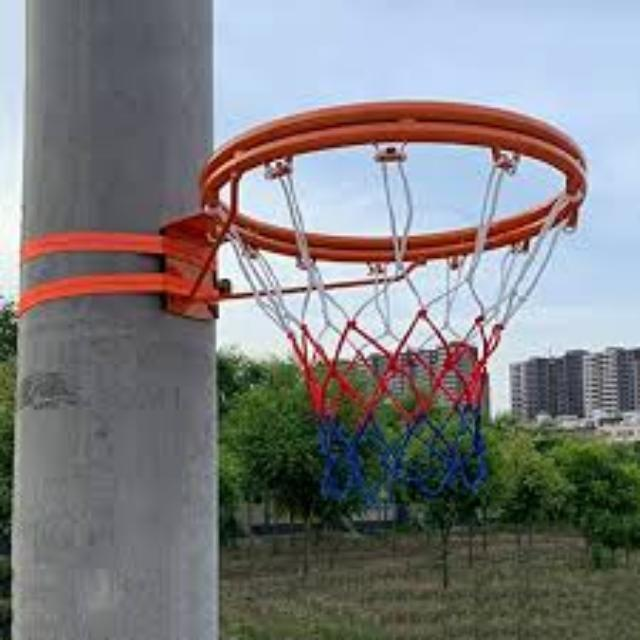rim: (202, 100, 586, 494)
